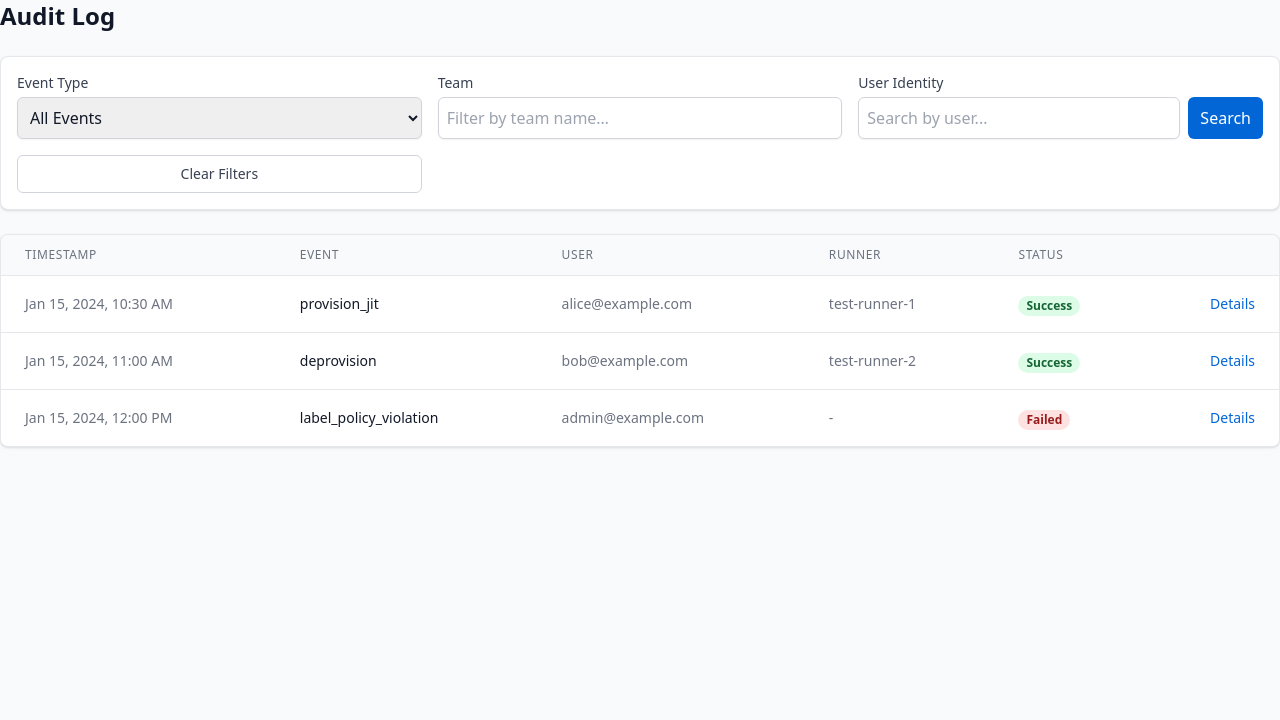
Test: AuditLog › closes detail modal when close button is clicked
// Open modal
Step 1. Click the button "Details" in the row of "Jan 15, 2024, 10:30 AM" → (1232, 304), box [1210,294,1255,314]
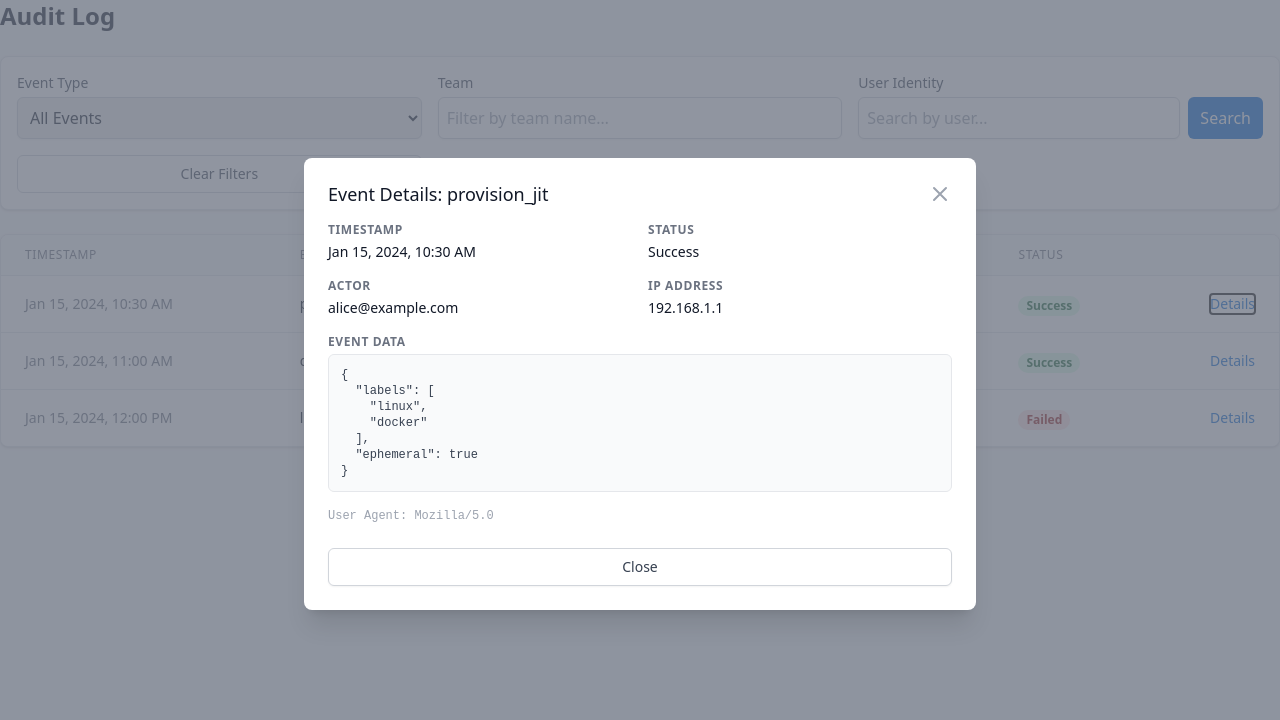
// Close modal
Step 2. Click the button named "close" → (940, 194), box [928,182,952,206]
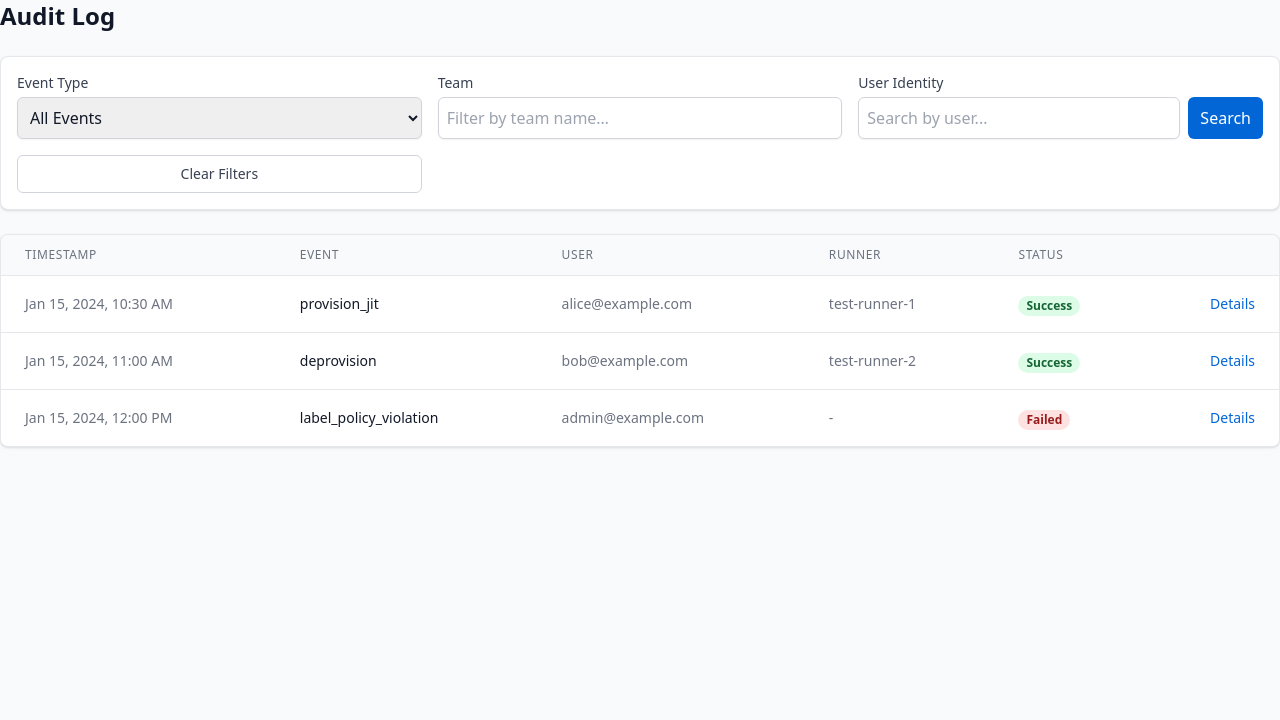
expect the heading "Event Details:" is gone: met
